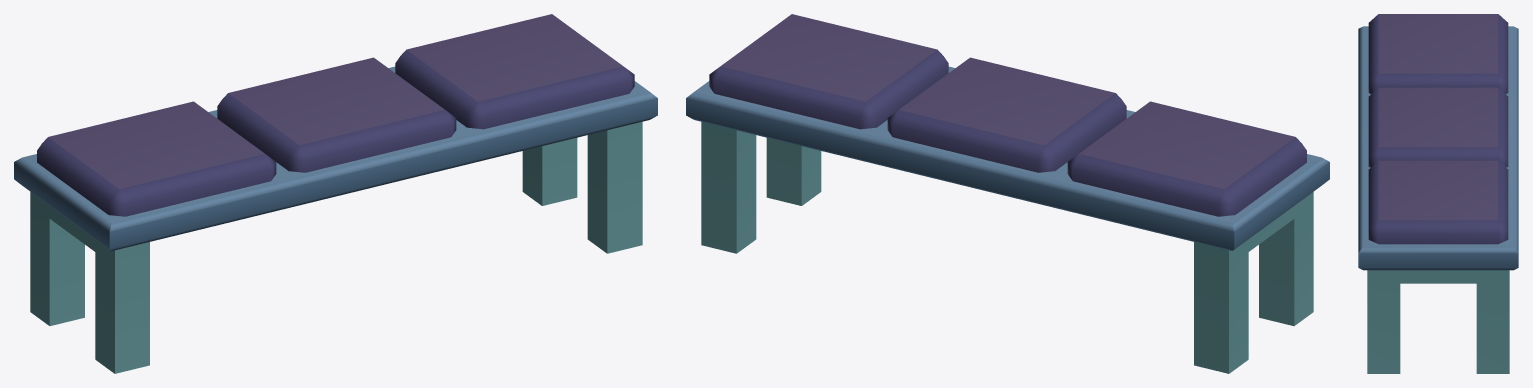
File: bench.fbx
The picture shows the model from 3 angles, left to right: view 1: azimuth 30°, elevation 25°; view 2: azimuth 150°, elevation 25°; view 3: azimuth 270°, elevation 25°; orthographic projection. The views are drawn at different scales.
Visible parts, largest first — view 1: bench; view 2: bench; view 3: bench.
Part boxes in pixels (<box>): bench: <box>14,14,657,373</box>; bench: <box>686,14,1329,373</box>; bench: <box>1358,14,1518,373</box>.
Bounding box in the file's own units: 173 × 53.4 × 52.22.
